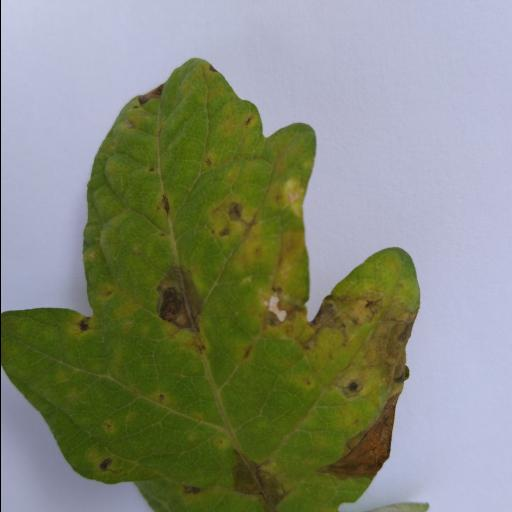disease_tomato: (0, 62, 422, 512)
